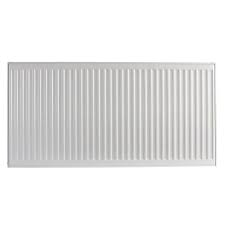Radiator: (7, 60, 218, 168)
